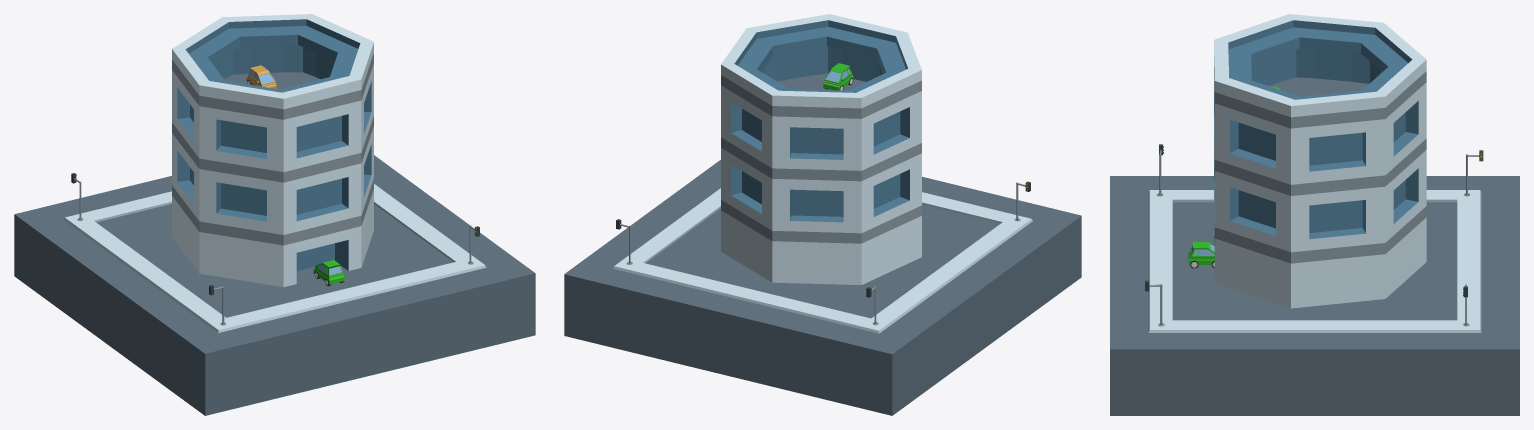
The model's file is parking.glb.
The picture shows the model from 3 angles, left to right: view 1: azimuth 30°, elevation 25°; view 2: azimuth 150°, elevation 25°; view 3: azimuth 270°, elevation 25°; orthographic projection. The views are drawn at different scales.
Parts seen in each view (by area): view 1: Cube.001, Cylinder, Cube.009, Cube; view 2: Cube.001, Cylinder, Cube.005; view 3: Cube.001, Cylinder, Cube.009.
Boxes of the visible parts, x1,y1,x2,y2 form: Cube.001: (14,155,535,415); Cylinder: (172,14,373,287); Cube.009: (313,260,344,284); Cube: (246,65,276,88); Cube.001: (564,160,1081,415); Cylinder: (721,14,921,284); Cube.005: (823,63,853,90); Cube.001: (1110,176,1519,415); Cylinder: (1214,14,1426,308); Cube.009: (1188,241,1214,264).
Size of the model in its own units: 17.05 by 12.36 by 17.05.
